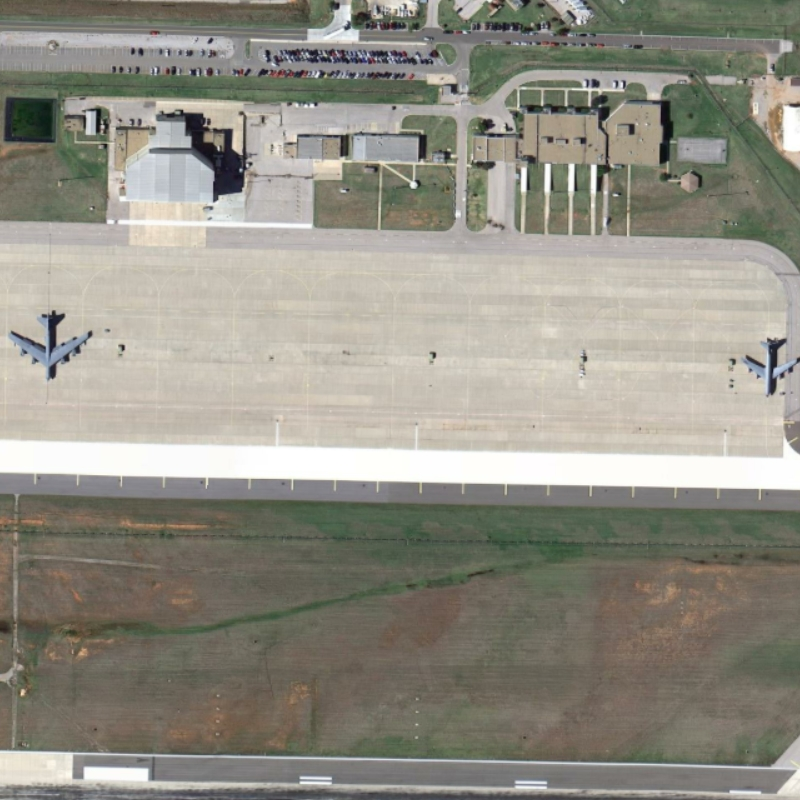A14: (736, 328, 800, 401)
A8: (3, 305, 99, 387)
